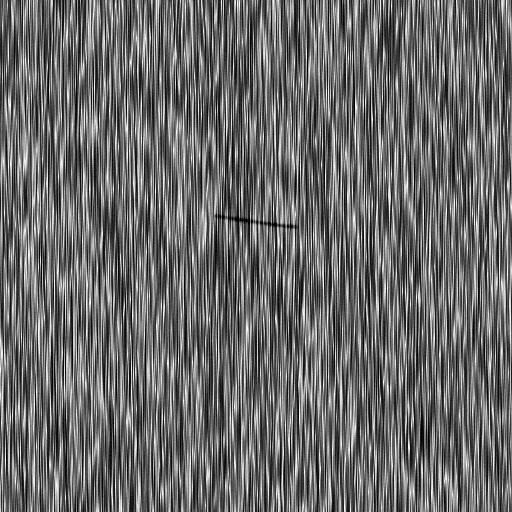DefectTypeC: (212, 210, 300, 235)
